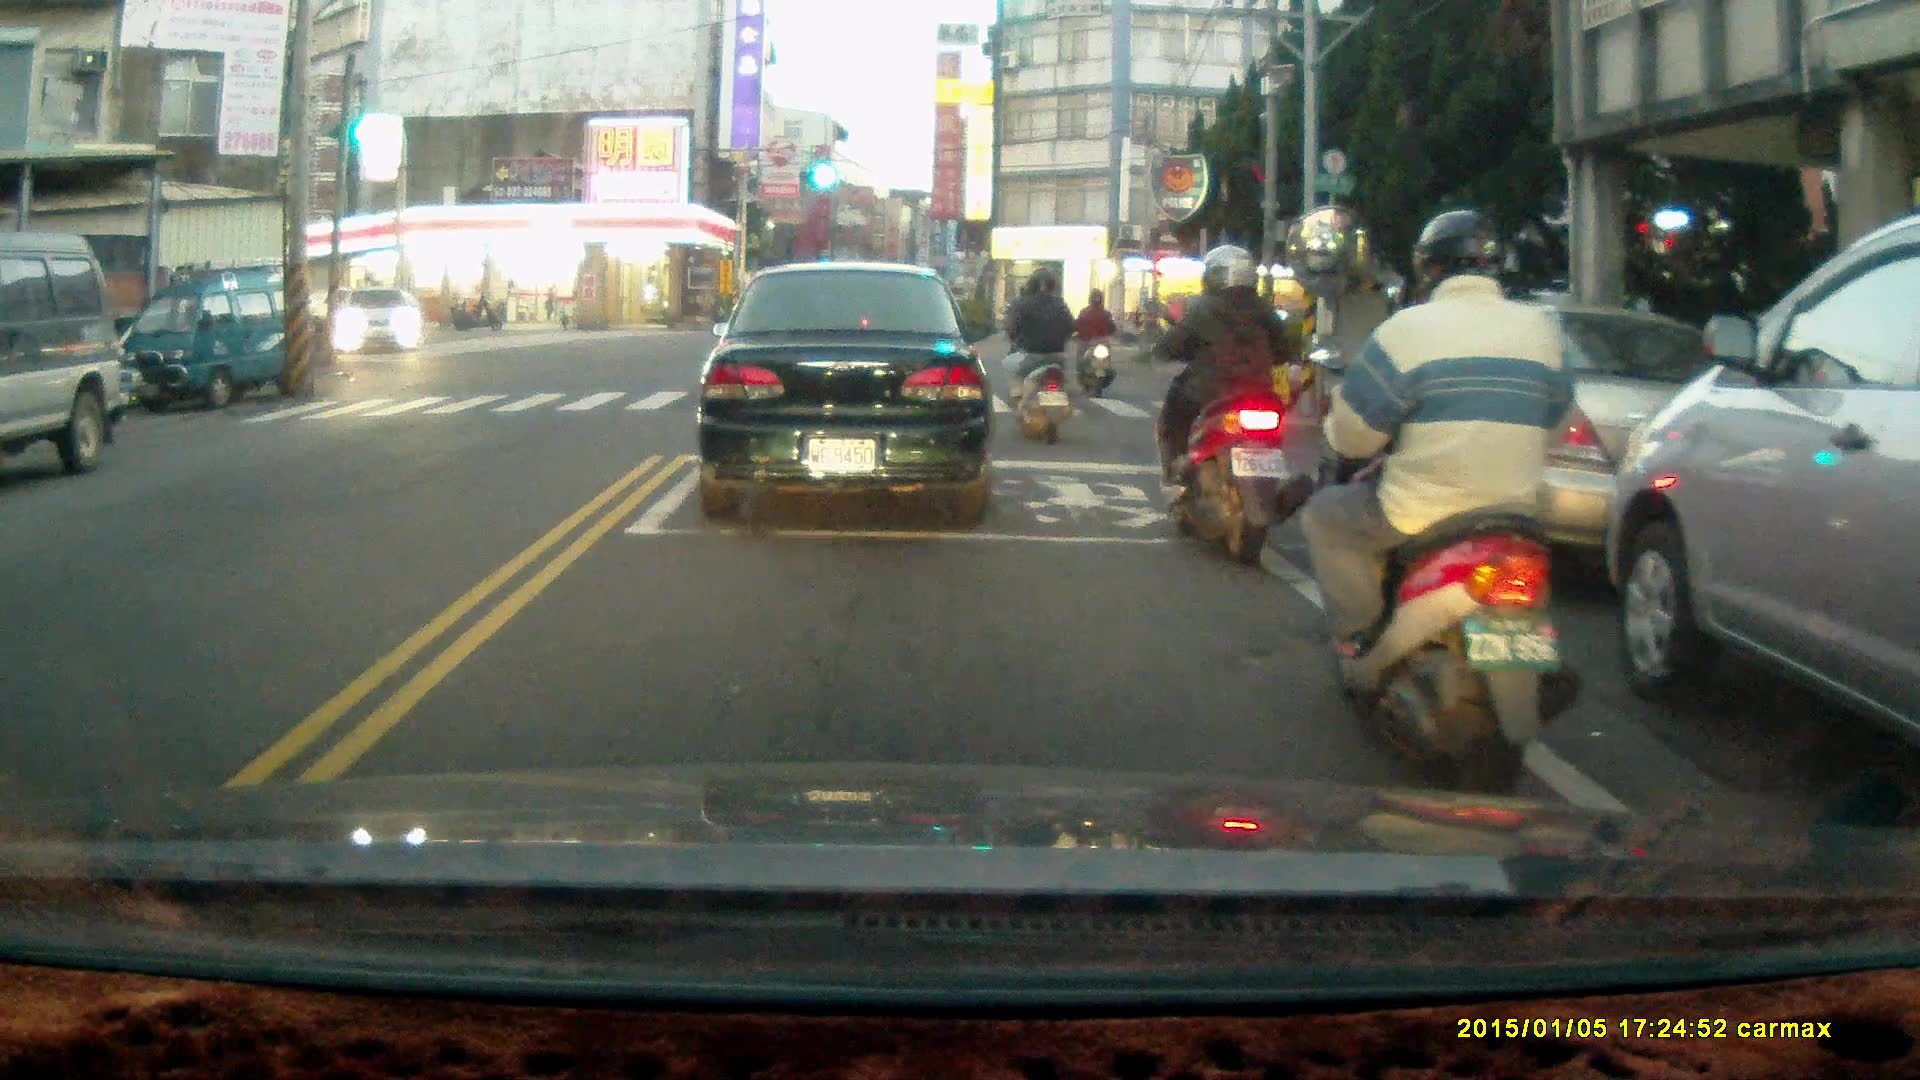rider: (1305, 210, 1587, 809), (1146, 239, 1313, 574), (1001, 264, 1074, 445), (1075, 285, 1116, 400)
vehicle: (1606, 217, 1920, 783), (694, 258, 996, 527), (1, 234, 126, 482), (130, 263, 292, 410), (333, 288, 423, 359)
